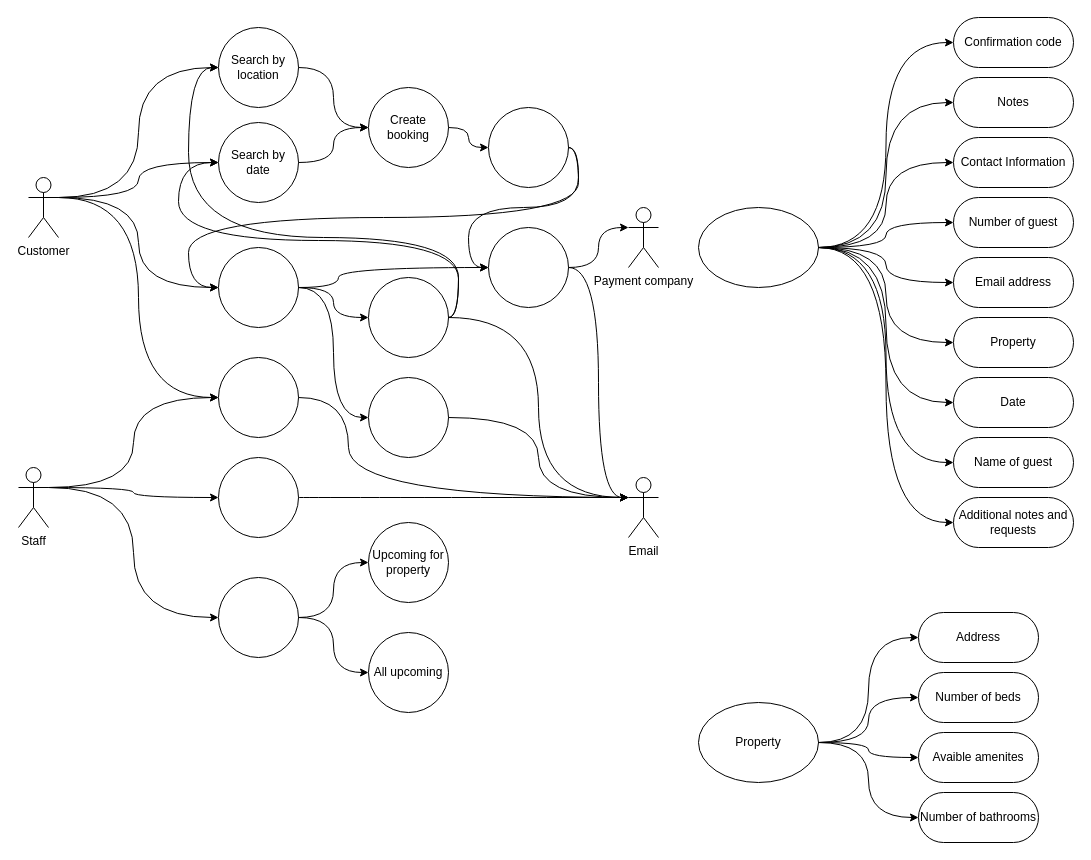
Some shapes in this 1091 by 860 pixel diagram are drawn without their labels. Each missing label, with the centre of its shape:
Booking: the point at 758,247
Cancell booking: the point at 258,397
Confirmation page: the point at 528,147
Edit booking: the point at 258,287
Edit booking information: the point at 408,417
Edit checkout date of booking: the point at 258,497
Make payment: the point at 528,267
Restart: the point at 408,317
Veiw booking: the point at 258,617
